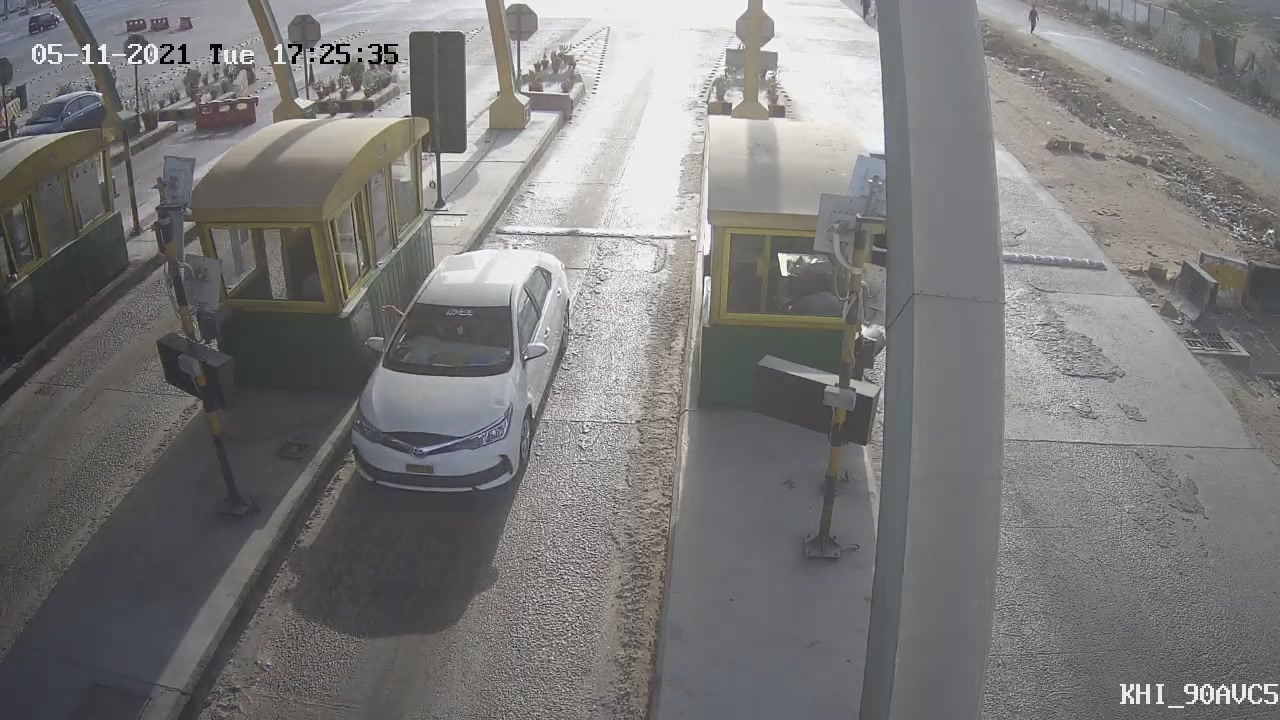F1: (331, 231, 586, 513)
